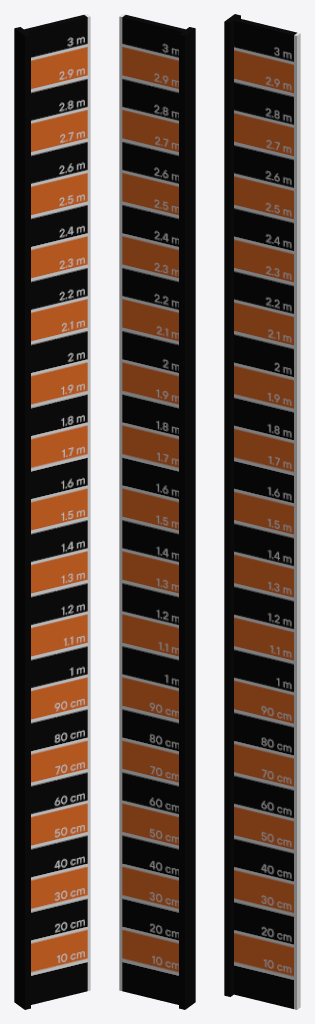
File: Slim Ruler 3 m.fbx
3 renders of one model, left to right at view 1: azimuth 30°, elevation 25°; view 2: azimuth 150°, elevation 25°; view 3: azimuth 330°, elevation 25°, orthographic.
Parts seen in each view (by area): view 1: Slim Ruler 3 m; view 2: Slim Ruler 3 m; view 3: Slim Ruler 3 m.
Boxes of the visible parts, <box> form: Slim Ruler 3 m: <box>14,14,90,1009</box>; Slim Ruler 3 m: <box>119,14,195,1009</box>; Slim Ruler 3 m: <box>224,14,300,1009</box>.
Bounding box in the file's own units: 0.2298 × 3.09 × 0.06.
